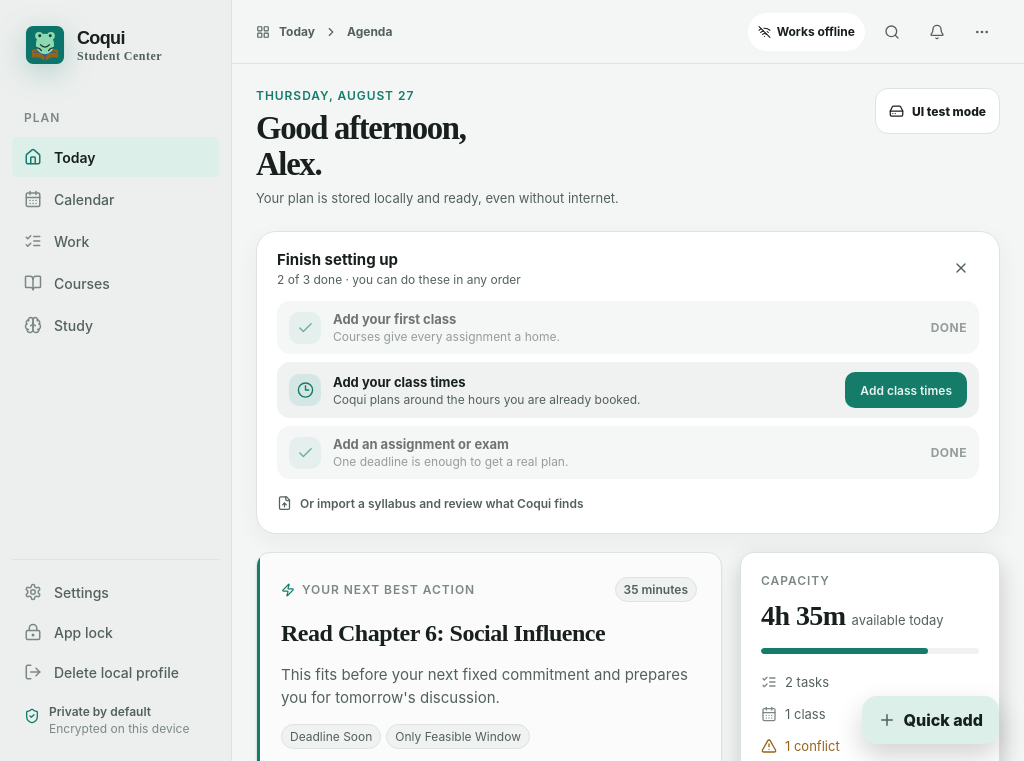
Work and Courses are focused destinations › Work shows filters and its editor without course or planning settings
Click the button "Work". click: (116, 241)
box: [12,221,219,261]
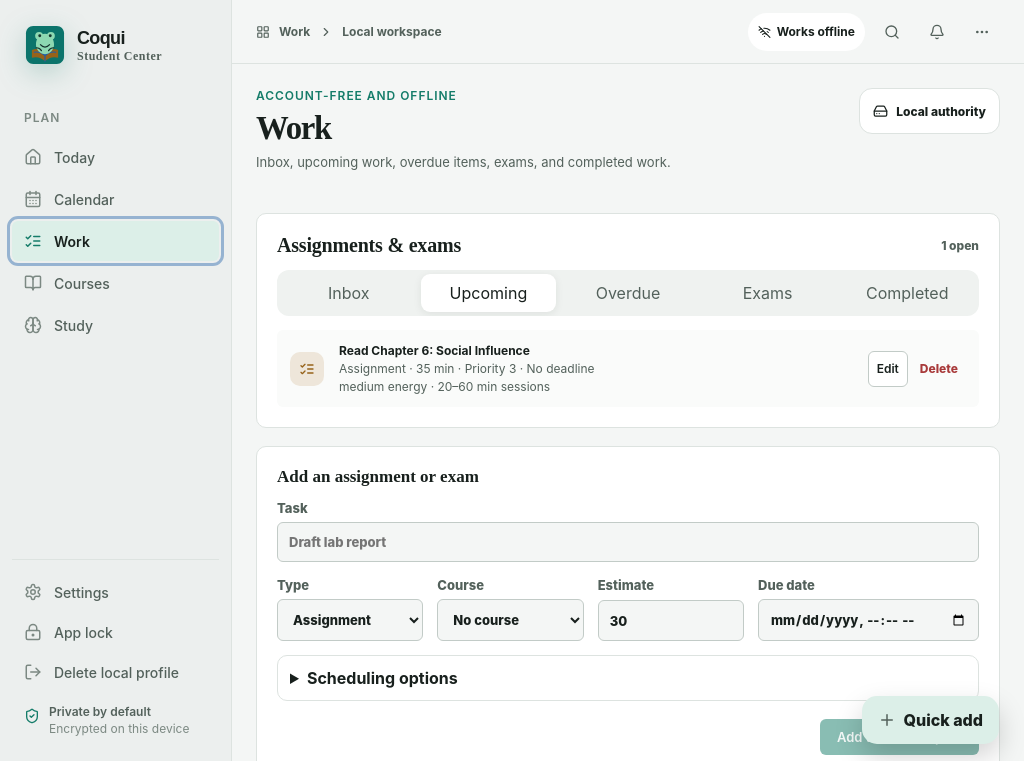
Expected: the heading "Assignments & exams" is shown, [277,234,461,257]
Expected: the heading "Add an assignment or exam" is shown, [277,467,479,486]
Expected: the element named "Work filters" is shown, [277,270,979,316]
